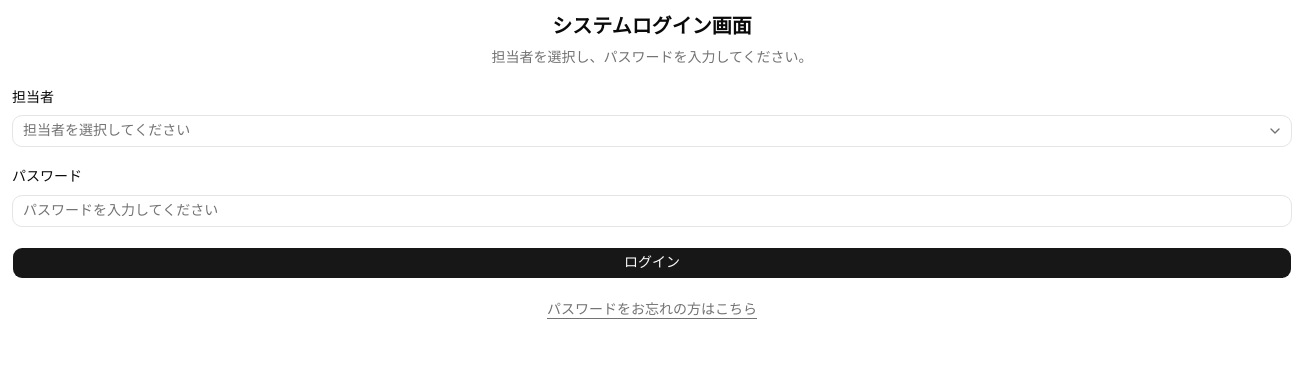
Test: LoginForm › ログイン API が認証エラーを返すと、エラーを表示して画面遷移しない
This screenshot has width=1304, height=376.
Click the dropdown labelled "担当者". click: [107, 131]
box: [12,115,1292,147]
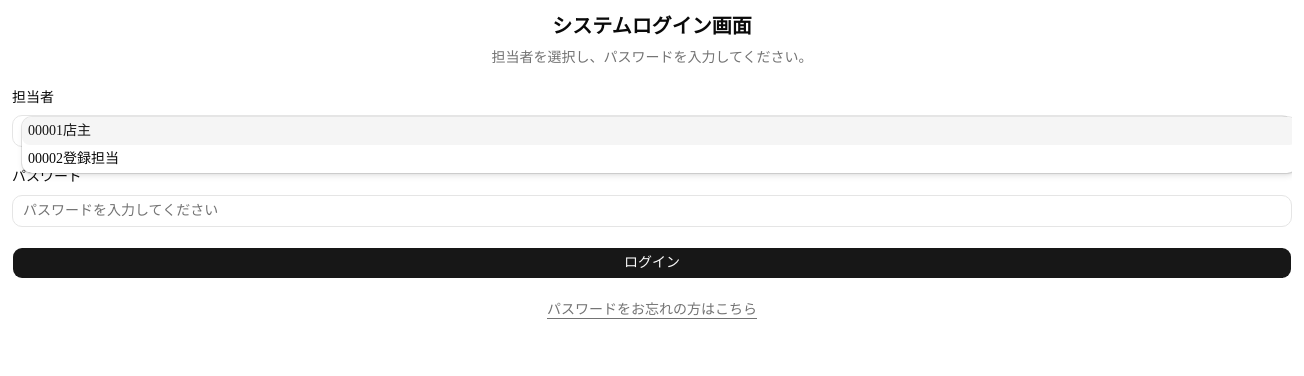
Click the option "00001店主". click: [46, 131]
box: [22,117,1292,145]
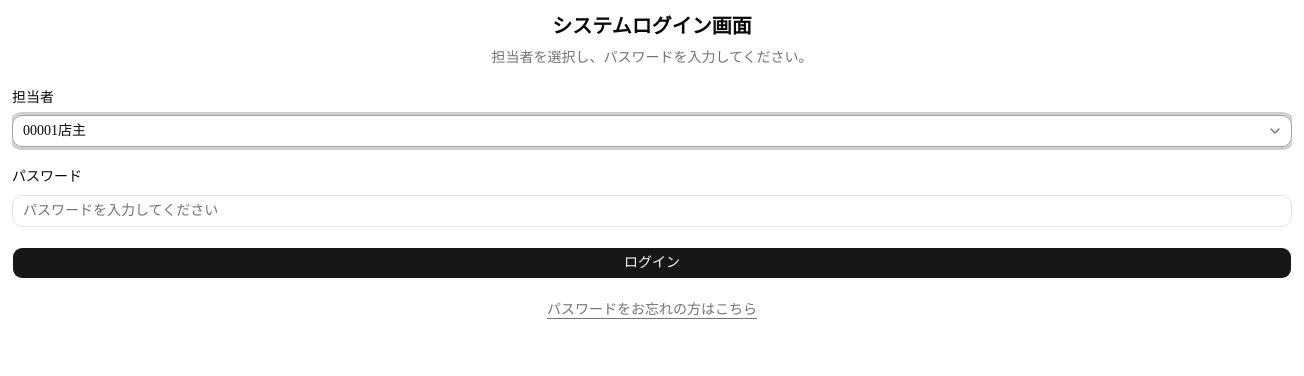
Type "wrong-password" into the password field labelled "パスワード". click: [652, 210]
box: [12,194,1292,226]
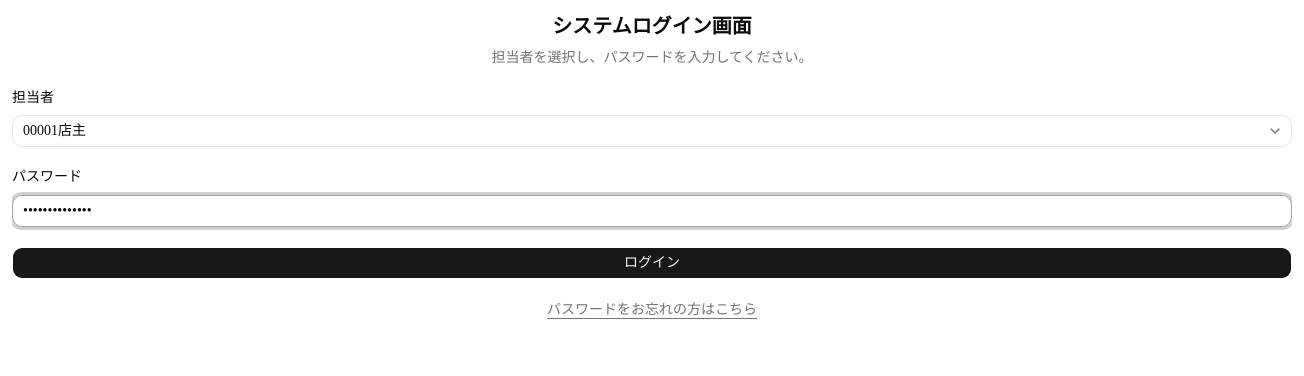
Click the button "ログイン". click: [652, 262]
box: [12,246,1292,278]
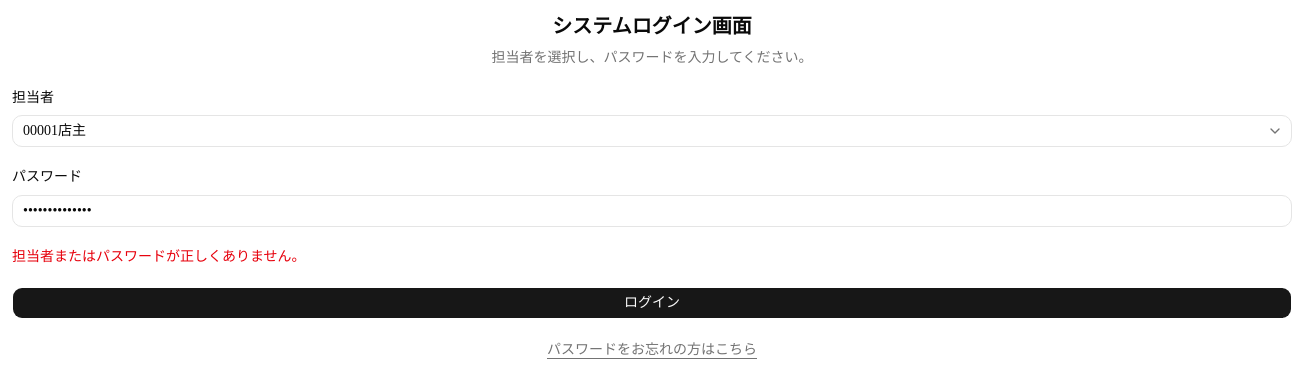
Now the text "担当者またはパスワードが正しくありません。" is shown, box [12,248,306,264]
